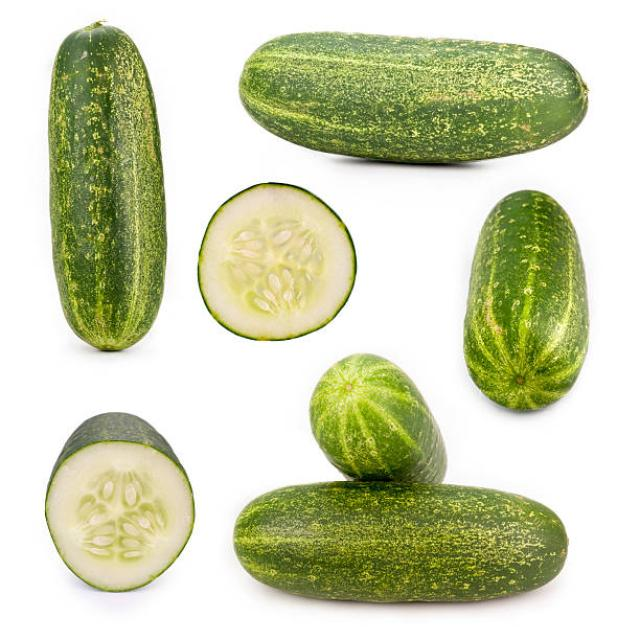cucumber: (238, 29, 588, 164), (230, 481, 569, 606), (49, 22, 168, 348), (461, 188, 591, 416), (44, 410, 194, 593), (312, 354, 448, 484)
